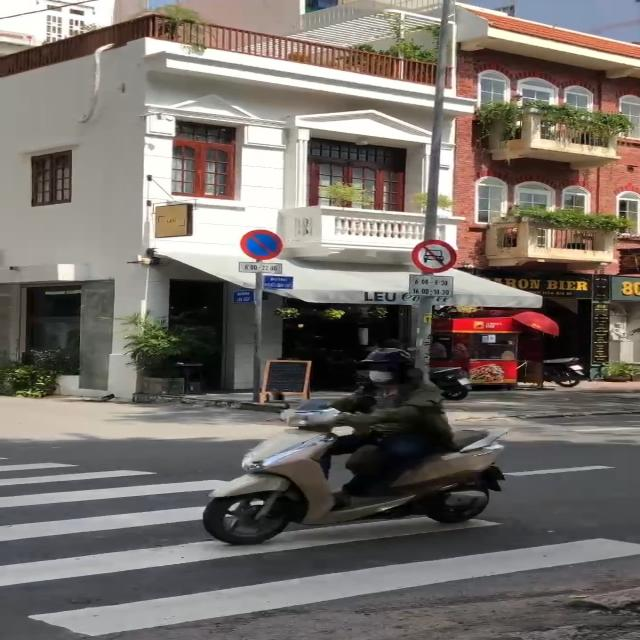Bien bao cam do xe: (239, 225, 290, 262)
Bien bao cam xe oto: (408, 236, 461, 274)
